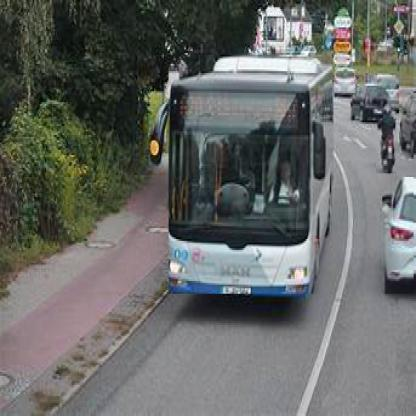bus: (170, 56, 335, 297)
car: (383, 178, 416, 297), (377, 103, 398, 176), (352, 87, 386, 123), (378, 72, 401, 116), (402, 94, 416, 162), (336, 70, 358, 98)
